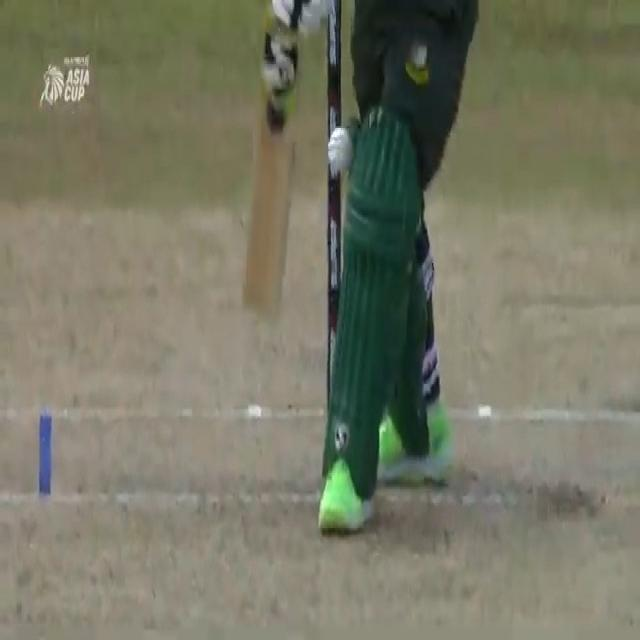Cricket ball: (326, 122, 356, 173)
